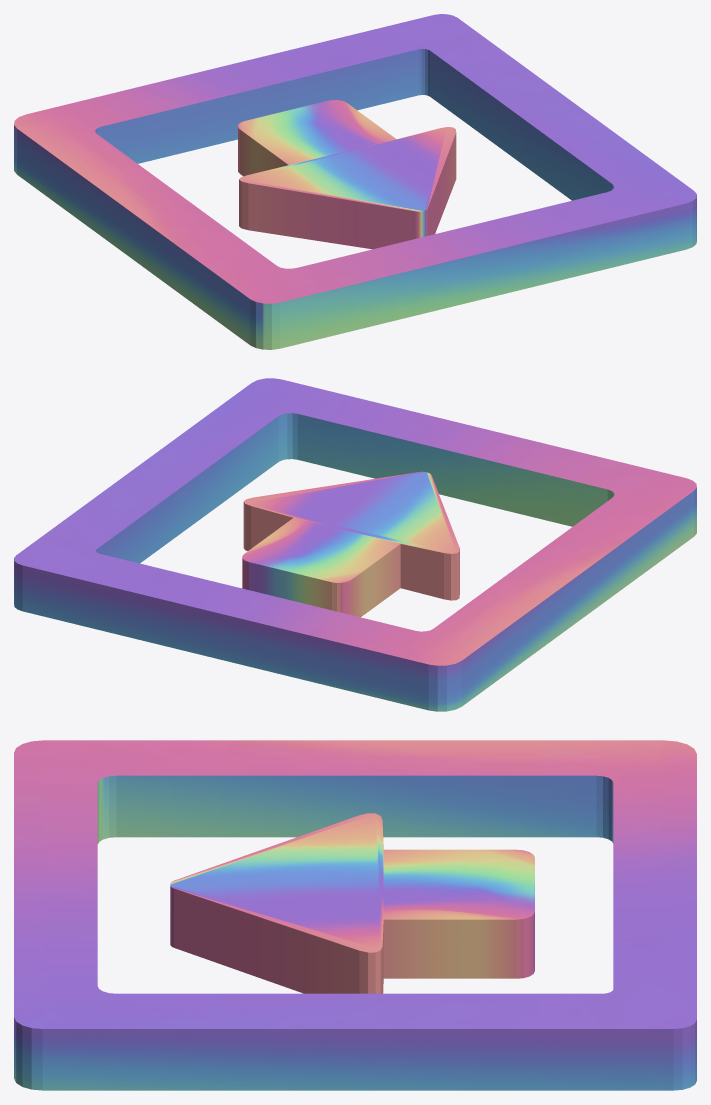
The model's file is Star tile normal 1.glb.
3 views of the same model, one above another, from view 1: azimuth 30°, elevation 25°; view 2: azimuth 150°, elevation 25°; view 3: azimuth 270°, elevation 25° (orthographic). The views are drawn at different scales.
Parts seen in each view (by area): view 1: Plane; view 2: Plane; view 3: Plane.
Boxes of the visible parts, x1,y1,x2,y2 form: Plane: [14, 14, 696, 349]; Plane: [14, 378, 696, 711]; Plane: [14, 740, 696, 1090].
Size of the model in its own units: 2 by 0.2026 by 2.
1 material, 1 textured.
